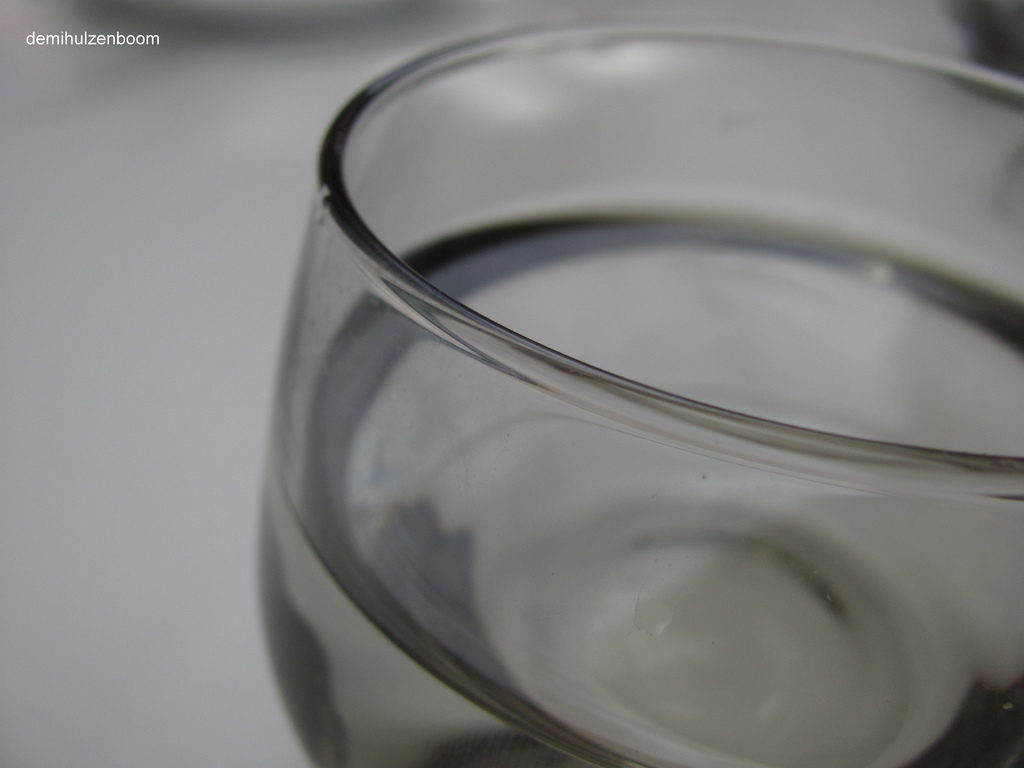glass of water: (255, 28, 1024, 761)
